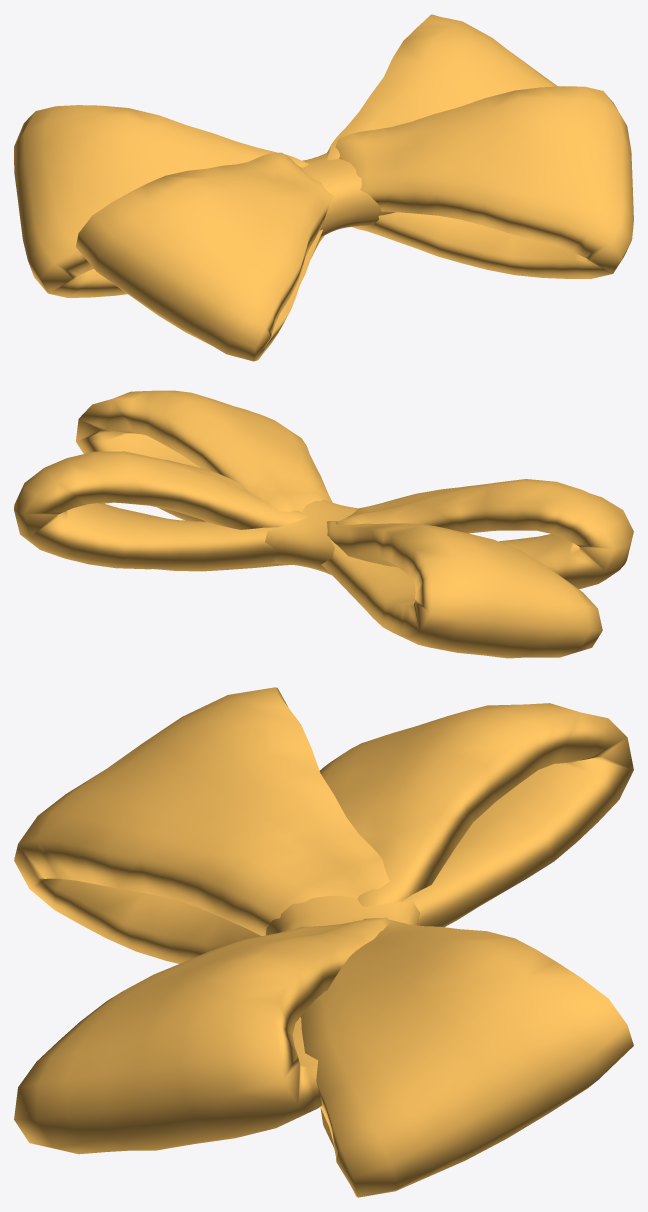
File: CandyBox_RibbonTie.fbx
3 views of the same model, one above another, from view 1: azimuth 30°, elevation 25°; view 2: azimuth 150°, elevation 25°; view 3: azimuth 270°, elevation 25° (orthographic). The views are drawn at different scales.
Visible parts, largest first — view 1: ribbon_tie; view 2: ribbon_tie; view 3: ribbon_tie.
Part boxes in pixels (left/top/right/bottom): ribbon_tie: left=14, top=14, right=633, bottom=361; ribbon_tie: left=14, top=390, right=633, bottom=658; ribbon_tie: left=14, top=687, right=633, bottom=1197.
Size of the model in its own units: 44.16 by 10.52 by 29.1.
